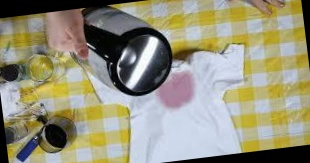wine: (157, 70, 200, 111)
